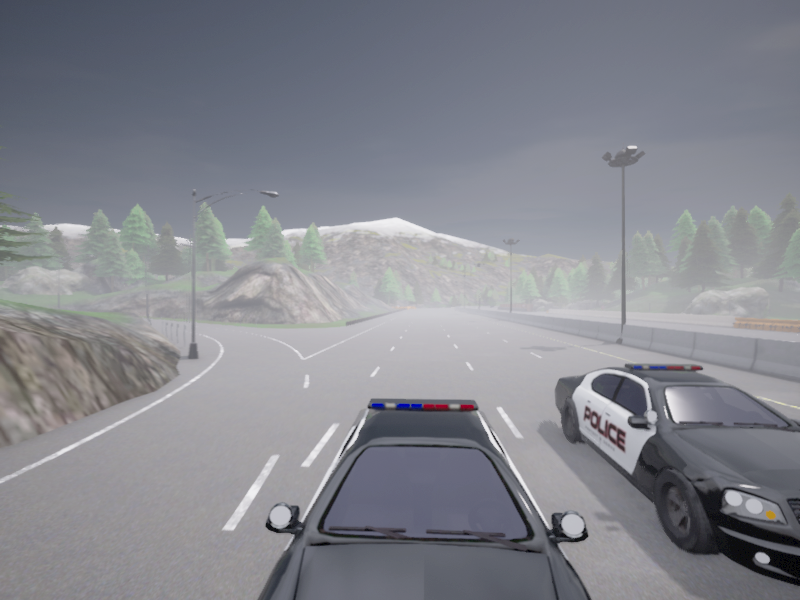vehicle: (257, 398, 591, 599), (555, 364, 799, 585), (491, 306, 495, 307)
